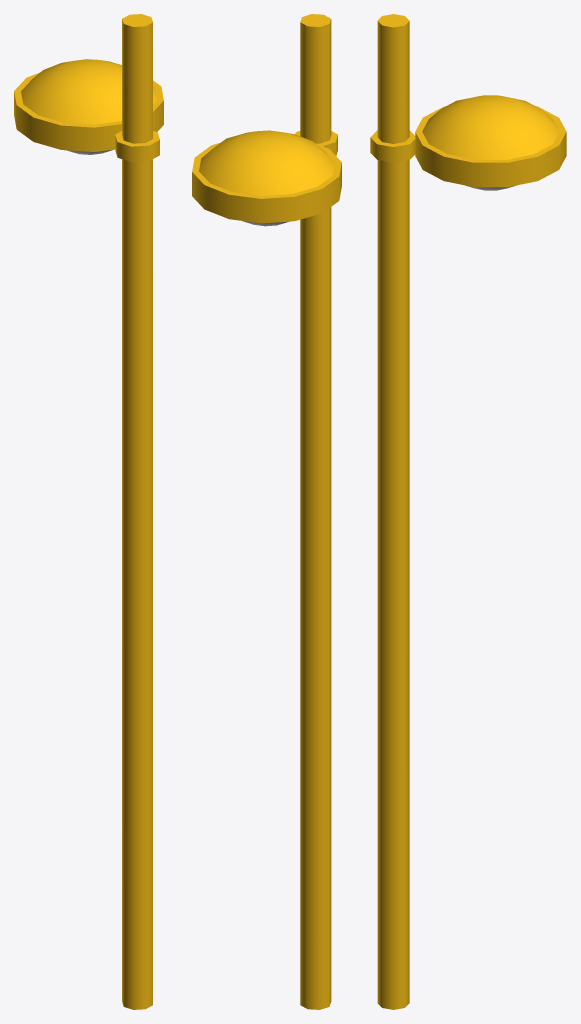
File: floor_lamp_001.FBX
The picture shows the model from 3 angles, left to right: view 1: azimuth 30°, elevation 25°; view 2: azimuth 150°, elevation 25°; view 3: azimuth 270°, elevation 25°; orthographic projection.
Parts seen in each view (by area): view 1: floor_lamp_001; view 2: floor_lamp_001; view 3: floor_lamp_001.
Boxes of the visible parts, x1,y1,x2,y2 form: floor_lamp_001: [14, 14, 163, 1009]; floor_lamp_001: [192, 14, 341, 1009]; floor_lamp_001: [370, 14, 566, 1009].
Size of the model in its own units: 80.13 by 589 by 107.
